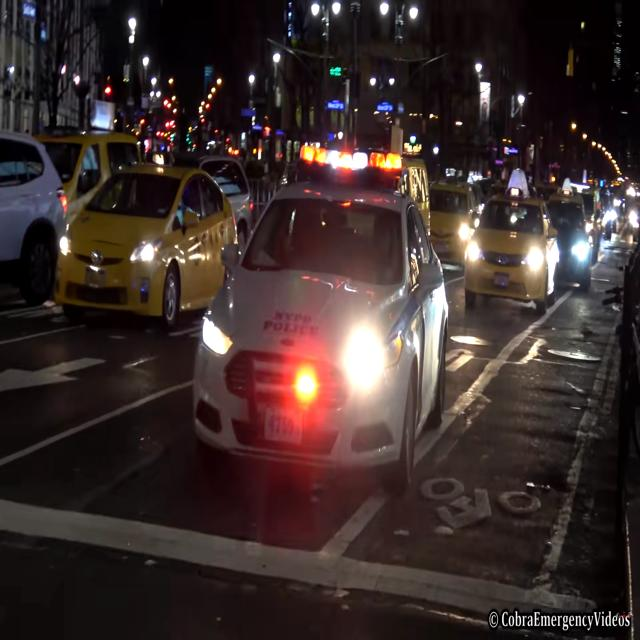emergency-vehicles: (179, 132, 456, 524)
